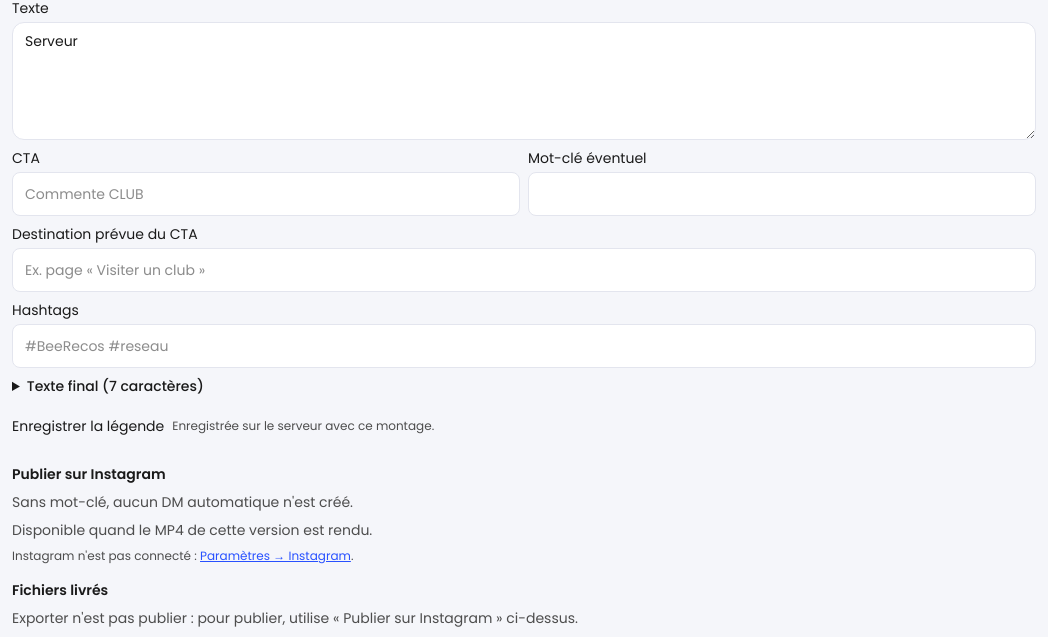
it: fige la saisie pendant la sauvegarde serveur et retire ensuite la copie de secours
Later steps or results of the test are not shown.
Replace the text in the text box labelled "Texte" with "Version finale" at (524, 81), box left=12, top=22, right=1036, bottom=140
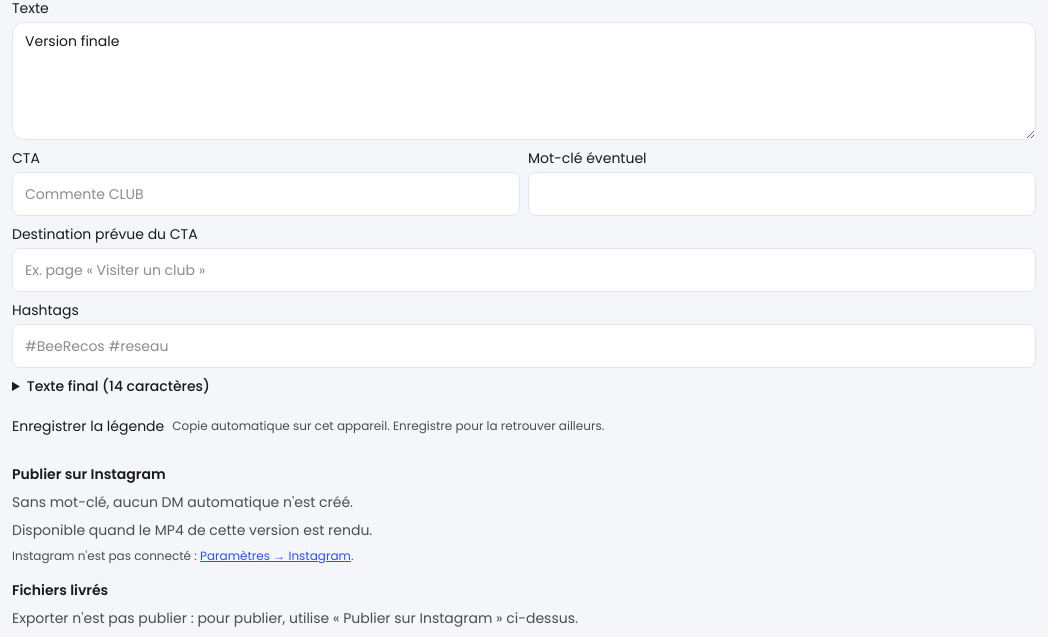
Click the button "Enregistrer la légende" at (88, 426), box left=12, top=404, right=164, bottom=448
(page scrolled)
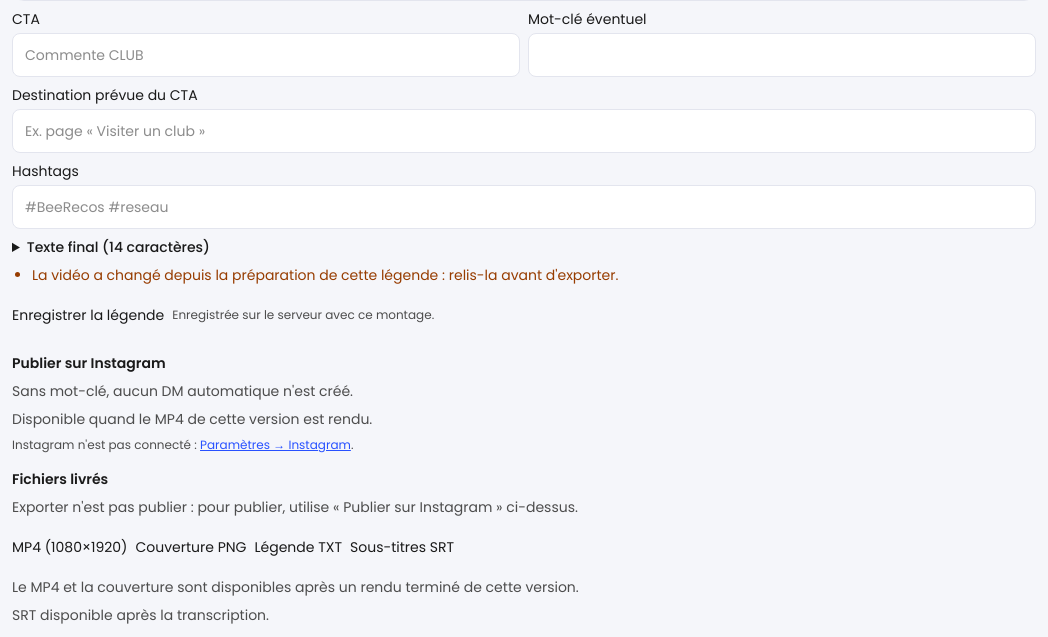
Expected: the text "Enregistrée sur le serveur avec ce montage." is shown, left=172, top=307, right=434, bottom=323
